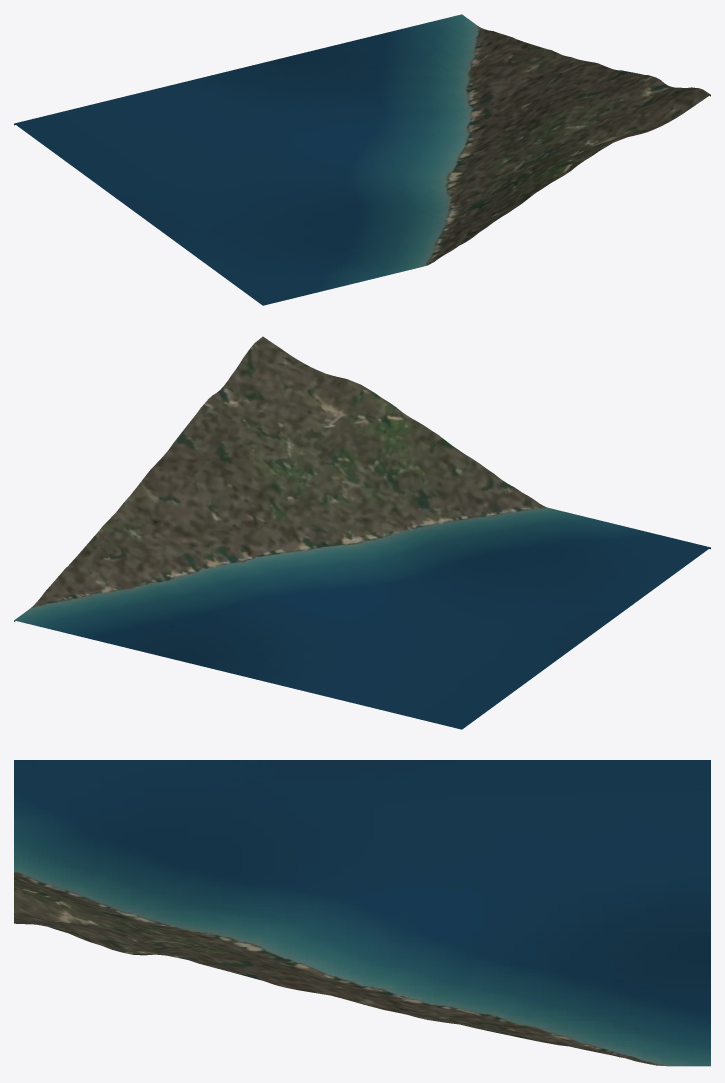
3 views of the same model, one above another, from view 1: azimuth 30°, elevation 25°; view 2: azimuth 150°, elevation 25°; view 3: azimuth 270°, elevation 25° (orthographic). The views are drawn at different scales.
Size of the model in its own units: 250 by 55.28 by 241.
1 material, 1 textured.
